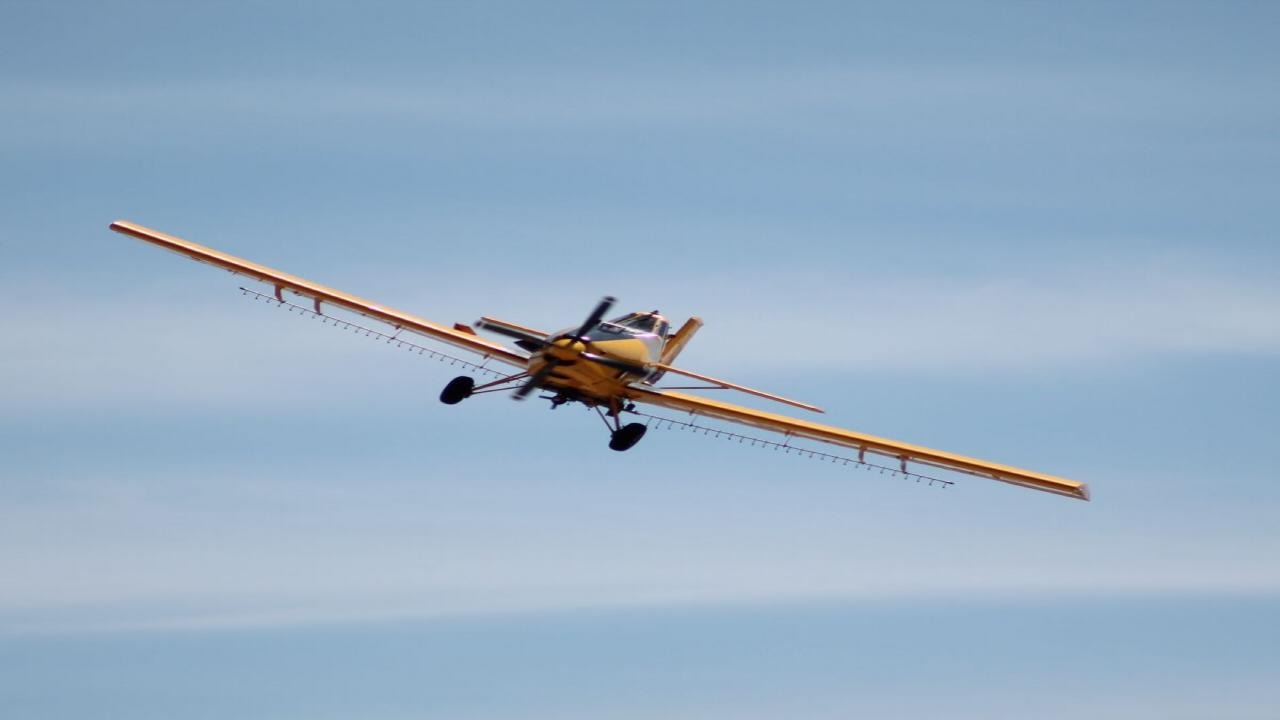Airplane: (87, 209, 1102, 507)
